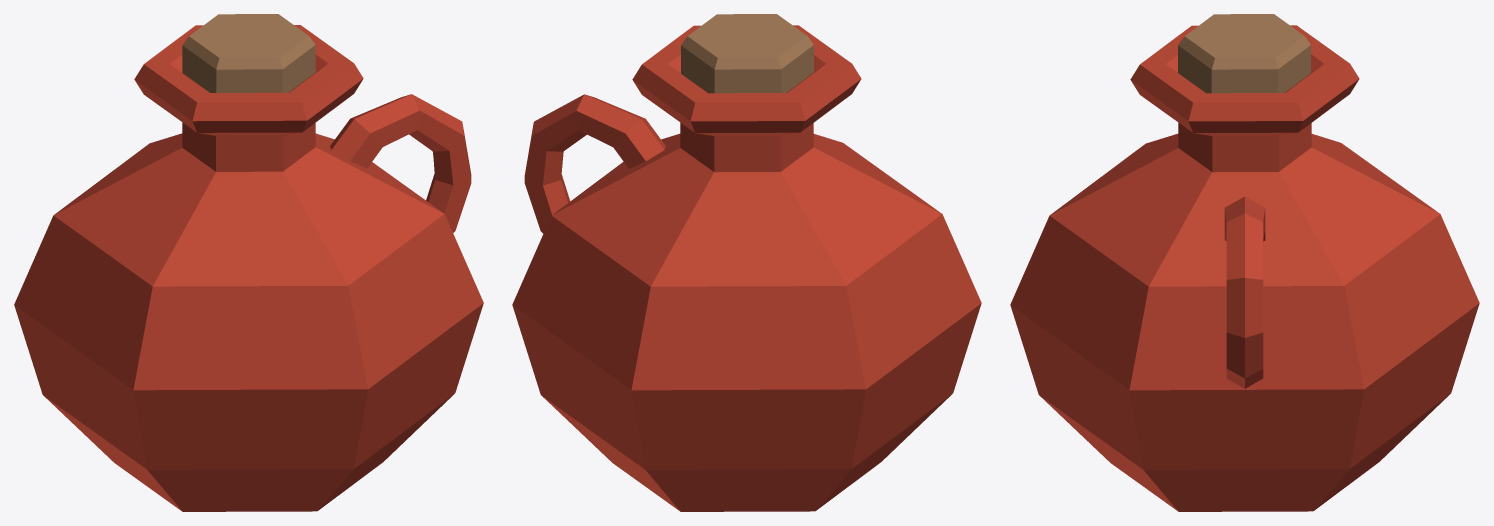
File: Red_Potion_9(Handle).fbx
3 views of the same model, side by side, from view 1: azimuth 30°, elevation 25°; view 2: azimuth 150°, elevation 25°; view 3: azimuth 270°, elevation 25° (orthographic).
Parts seen in each view (by area): view 1: Red_Potion_9(Handle); view 2: Red_Potion_9(Handle); view 3: Red_Potion_9(Handle).
Part boxes in pixels (box(x1,y1,x2,y2)): Red_Potion_9(Handle): box(14, 14, 483, 511); Red_Potion_9(Handle): box(512, 14, 981, 511); Red_Potion_9(Handle): box(1010, 14, 1479, 511).
Bounding box in the file's own units: 20.35 × 20.77 × 20.73.
